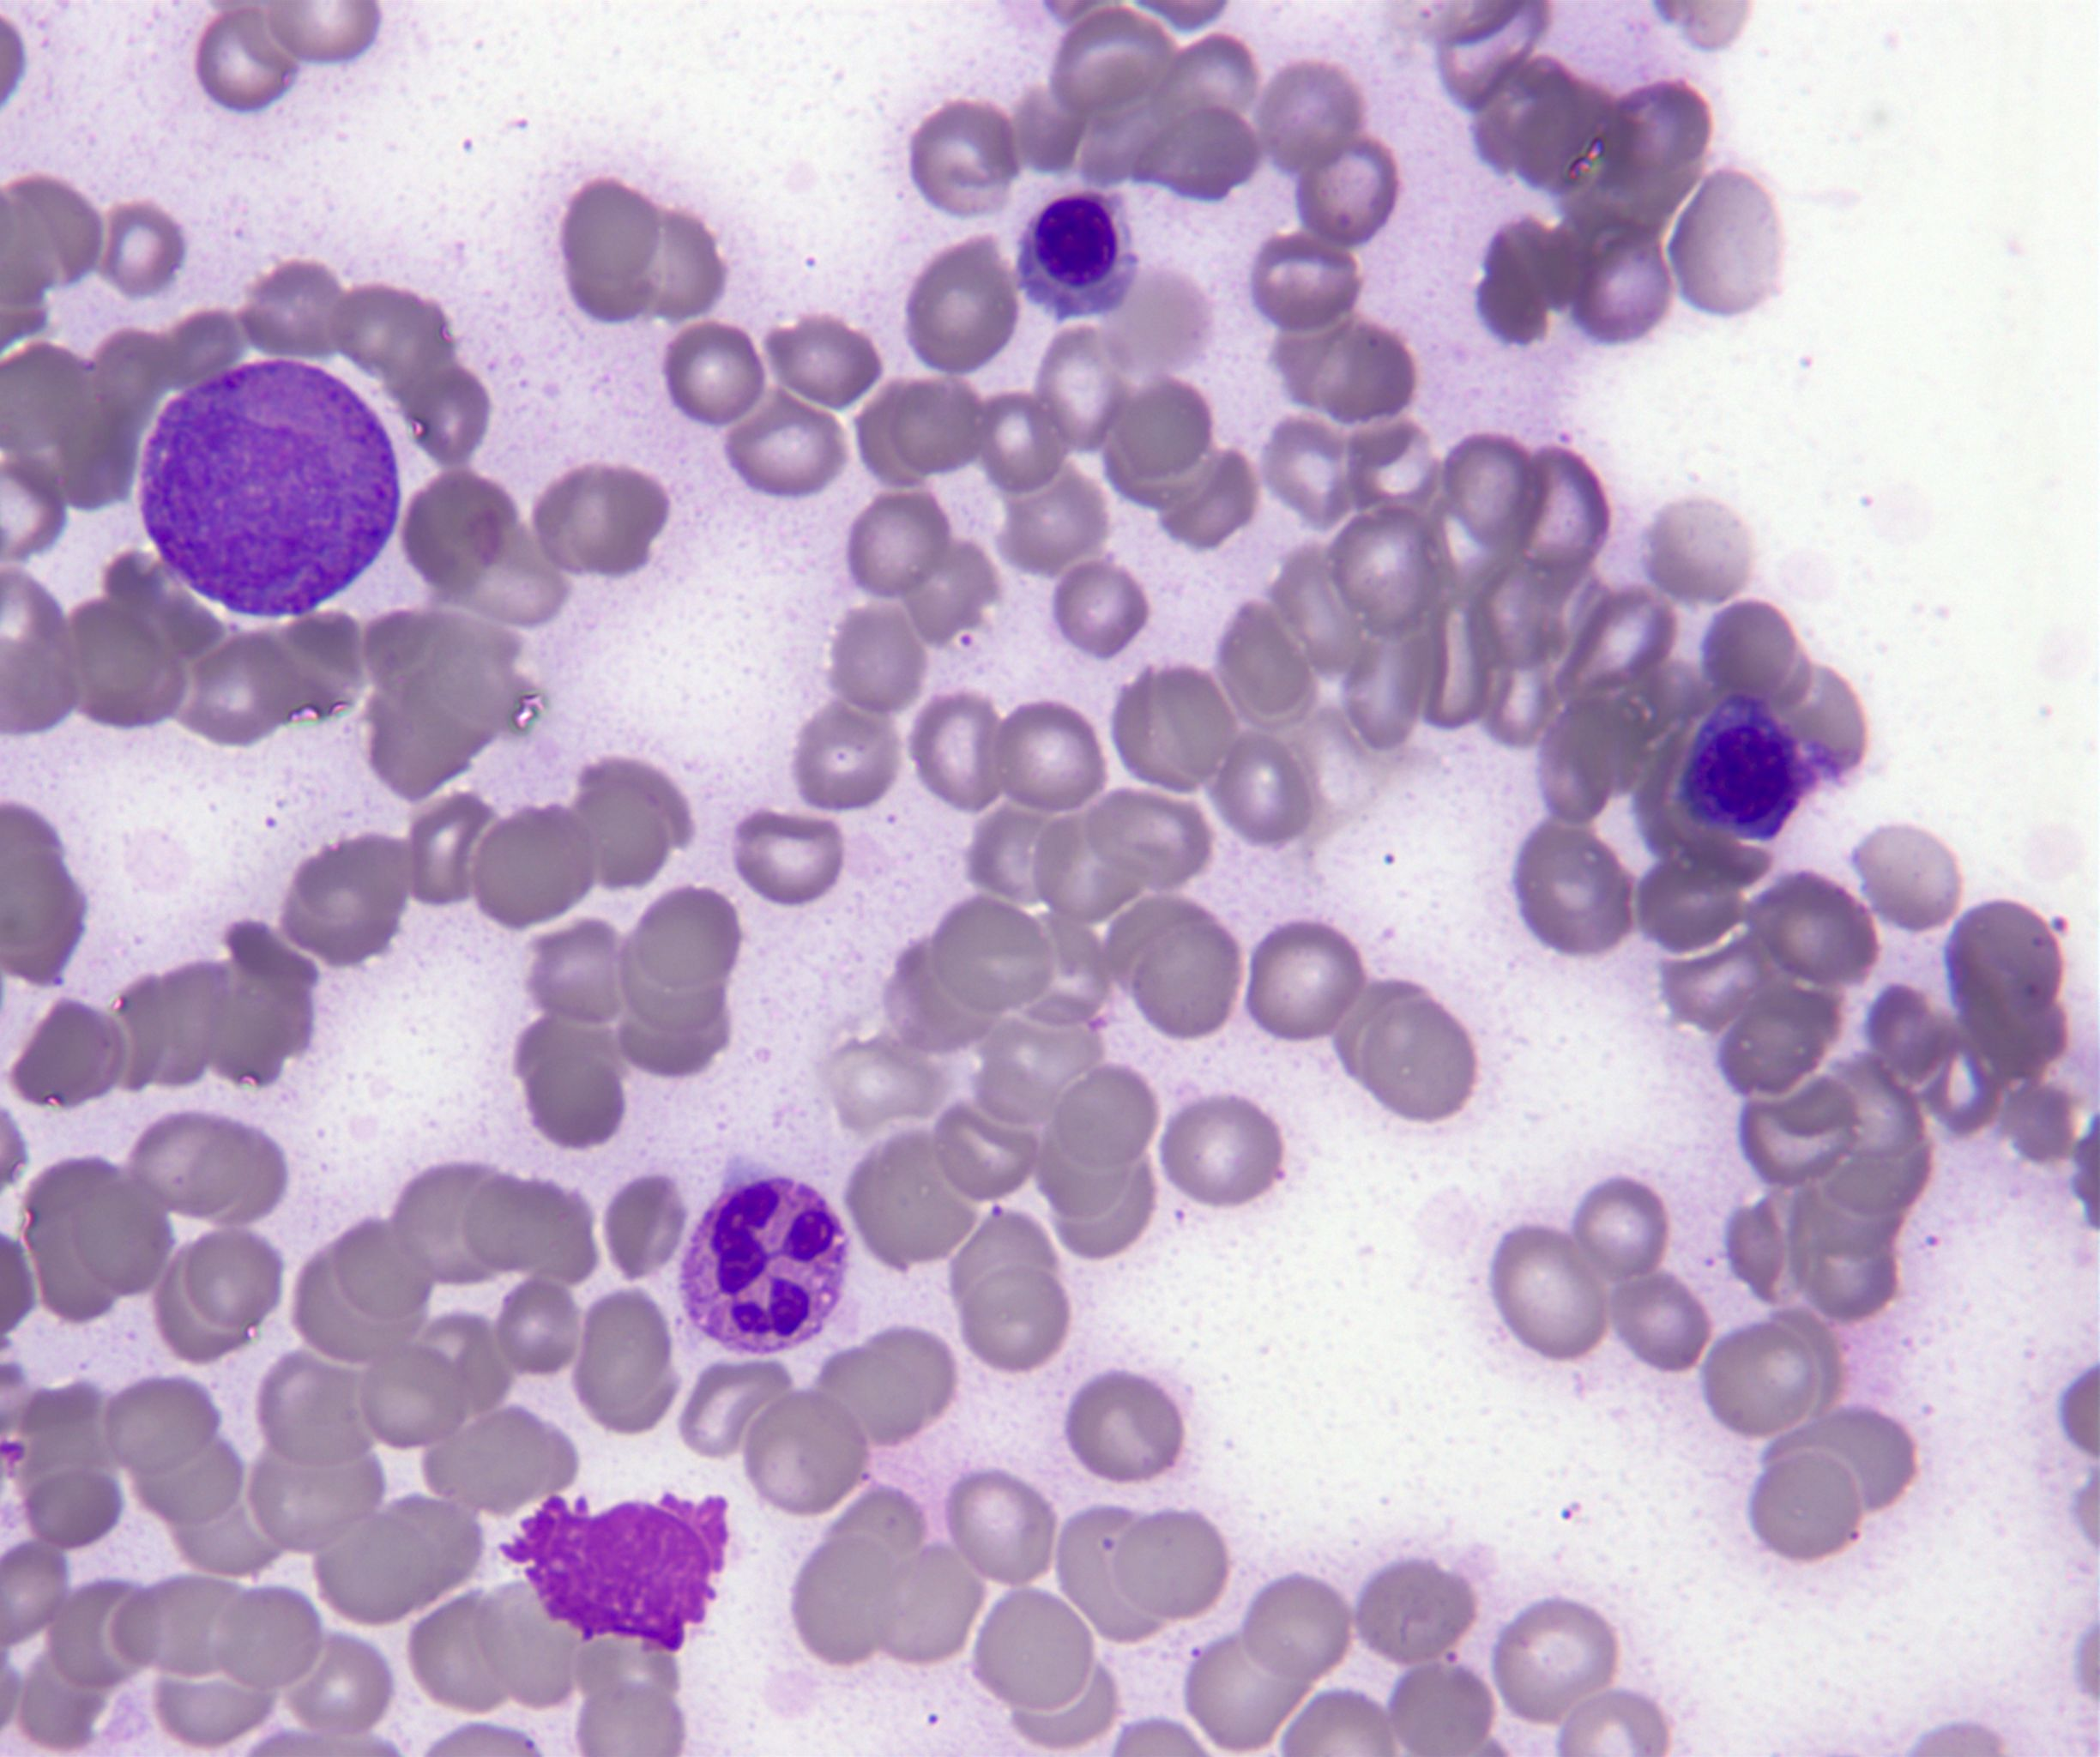23: (1676, 694, 1845, 841)
24: (1015, 192, 1139, 318)
6: (682, 1178, 851, 1354)
E1: (140, 359, 399, 616)
x: (497, 1494, 729, 1652)
